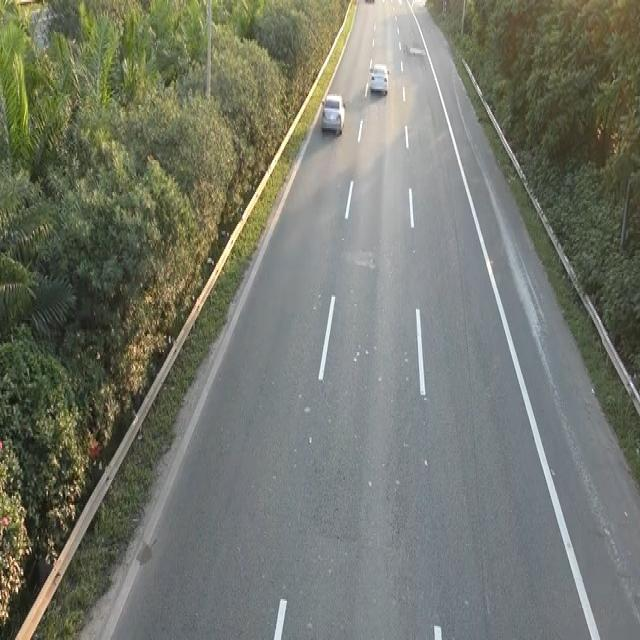bus: (320, 91, 346, 137), (368, 60, 389, 96)
